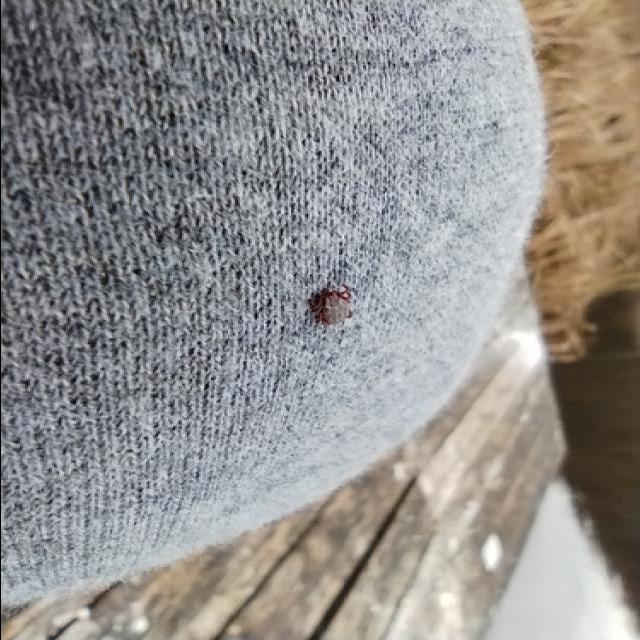Dermacentor Reticulatus-M: (304, 283, 357, 329)
